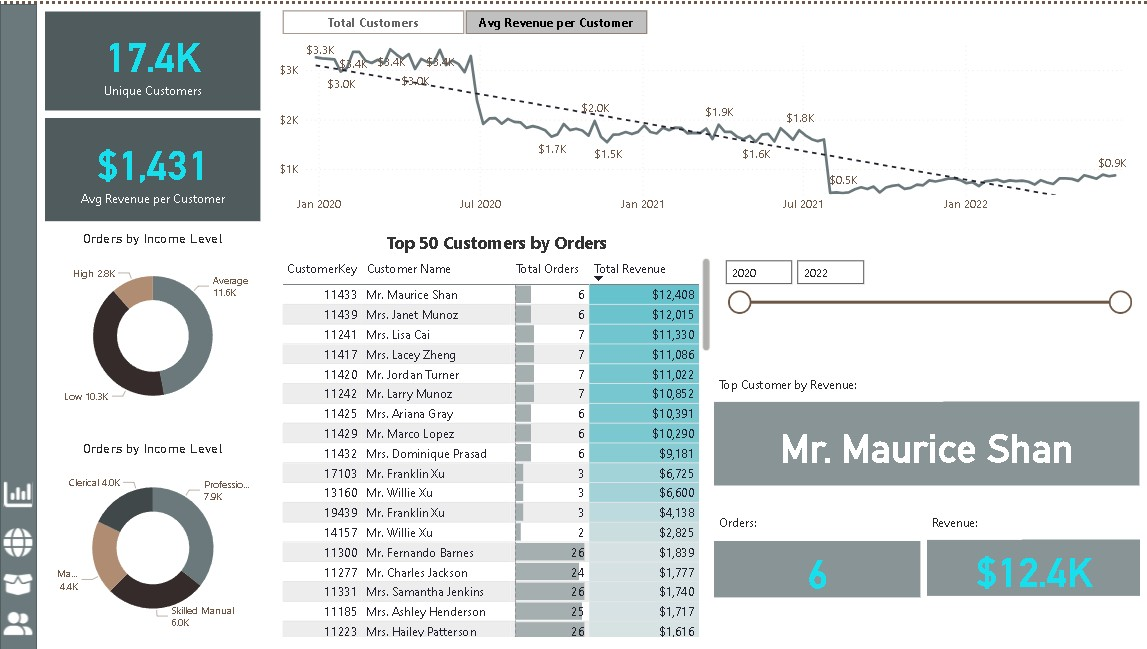

Layout of this report page (visuals, bound fields, positions):
{"tool":"powerbi","page":{"name":"Customer Details","canvas":[1280,720],"ordinal":3},"visuals":[{"type":"card","fields":{"Values":["_Measure Table.Total Customers"]},"box":[50.1,9,239.1,110.1],"z":0},{"type":"shape","box":[0,0,41,720],"z":1000},{"type":"card","fields":{"Values":["_Measure Table.Avg Revenue per Customer"]},"box":[50.1,127.2,239.1,114.6],"z":2000},{"type":"donutChart","title":"Orders by Income Level","fields":{"Category":["Customer Lookup.Income Level"],"Y":["_Measure Table.Total Orders"]},"box":[50.1,251.6,239.1,217.6],"z":3000},{"type":"donutChart","title":"Orders by Income Level","fields":{"Y":["_Measure Table.Total Orders"],"Category":["Customer Lookup.Occupation"]},"box":[50.1,485.4,239.1,222.1],"z":4000},{"type":"tableEx","title":"Top 50 Customers by Orders","fields":{"Values":["Customer Lookup.CustomerKey","Customer Lookup.Customer Name","_Measure Table.Total Orders","_Measure Table.Total Revenue"]},"box":[307.5,251.7,485.8,455.8],"z":5000},{"type":"lineChart","fields":{"Y":["_Measure Table.Avg Revenue per Customer"],"Category":["Calendar Lookup.Start of Week"]},"box":[307.3,31.8,959.1,210],"z":6000},{"type":"slicer","fields":{"Values":["Customer Metric Selection.Customer Metric Selection"]},"box":[289.1,0,454.5,38.2],"z":7000},{"type":"card","fields":{"Values":["Customer Lookup.Customer Name"]},"box":[793.6,441.8,472.7,93.6],"z":8000},{"type":"textbox","box":[793.6,406.4,254.5,35.5],"z":9000},{"type":"card","fields":{"Values":["_Measure Table.Total Orders"]},"box":[792.7,596.4,229.1,62.7],"z":10000},{"type":"card","fields":{"Values":["_Measure Table.Total Revenue"]},"box":[1030,595.5,236.4,62.7],"z":11000},{"type":"textbox","box":[792.7,560,105.5,35.5],"z":12000},{"type":"textbox","box":[1030,560,105.5,35.5],"z":13000},{"type":"slicer","fields":{"Values":["Calendar Lookup.Year"]},"box":[793.6,274.5,472.7,96.4],"z":14000},{"type":"group","id":"g1","title":"Page Navigation Icon","box":[0,525.5,40.9,182.7],"z":15000},{"type":"actionButton","box":[0,525.5,40.9,40],"z":21000,"group":"g1"},{"type":"actionButton","box":[0,578.2,40.9,40],"z":22000,"group":"g1"},{"type":"actionButton","box":[0,625.5,40.9,40],"z":23000,"group":"g1"},{"type":"actionButton","box":[0,668.2,40.9,40],"z":24000,"group":"g1"}]}

Visuals, with their boxes on the page's 1280x720 design canvas (x1, y1, x2, y2). These are canvas units, not pixel positions in the 1147x649 screenshot, which may show the page scaled, cropped or inside an application window:
card - _Measure Table.Total Customers: bbox=(50, 9, 289, 119)
shape: bbox=(0, 0, 41, 720)
card - _Measure Table.Avg Revenue per Customer: bbox=(50, 127, 289, 242)
"Orders by Income Level" donutChart: bbox=(50, 252, 289, 469)
"Orders by Income Level" donutChart: bbox=(50, 485, 289, 708)
"Top 50 Customers by Orders" tableEx: bbox=(308, 252, 793, 708)
lineChart - _Measure Table.Avg Revenue per Customer x Calendar Lookup.Start of Week: bbox=(307, 32, 1266, 242)
slicer - Customer Metric Selection.Customer Metric Selection: bbox=(289, 0, 744, 38)
card - Customer Lookup.Customer Name: bbox=(794, 442, 1266, 535)
textbox: bbox=(794, 406, 1048, 442)
card - _Measure Table.Total Orders: bbox=(793, 596, 1022, 659)
card - _Measure Table.Total Revenue: bbox=(1030, 596, 1266, 658)
textbox: bbox=(793, 560, 898, 596)
textbox: bbox=(1030, 560, 1136, 596)
slicer - Calendar Lookup.Year: bbox=(794, 274, 1266, 371)
"Page Navigation Icon" group: bbox=(0, 526, 41, 708)
actionButton: bbox=(0, 526, 41, 566)
actionButton: bbox=(0, 578, 41, 618)
actionButton: bbox=(0, 626, 41, 666)
actionButton: bbox=(0, 668, 41, 708)
